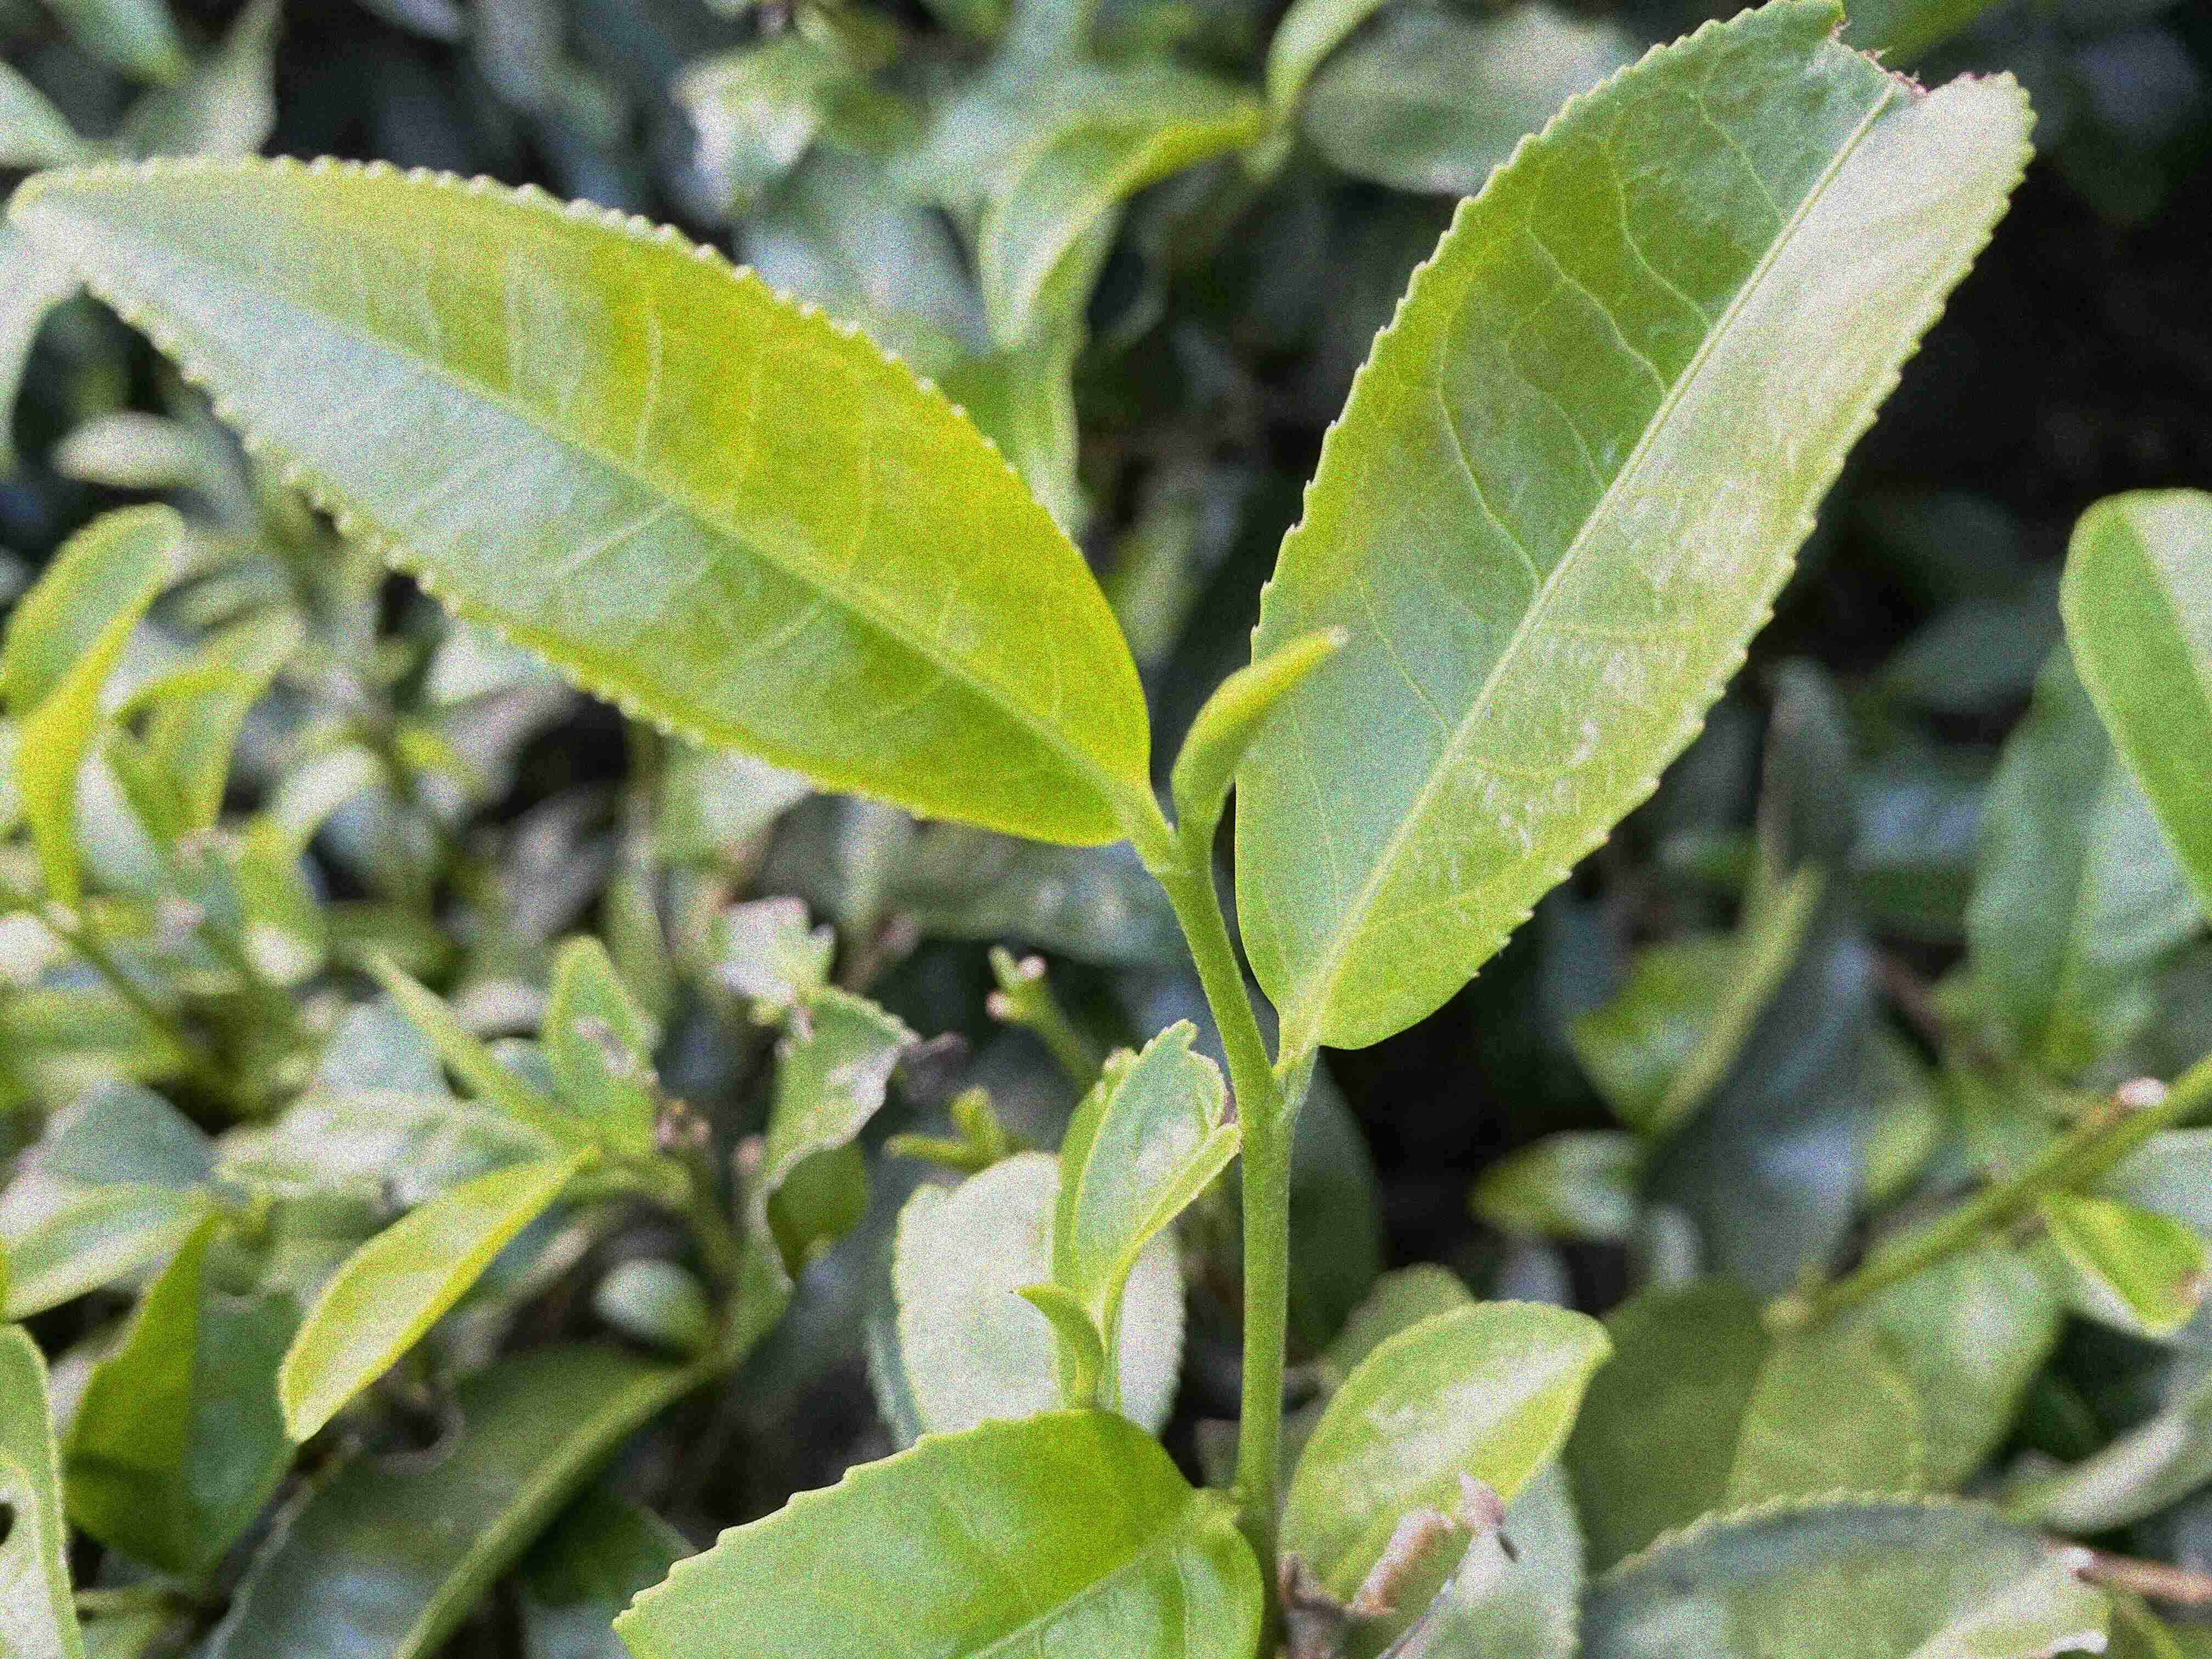chihuo_low: (1231, 0, 2040, 1049)
healthy: (5, 145, 1155, 847)
